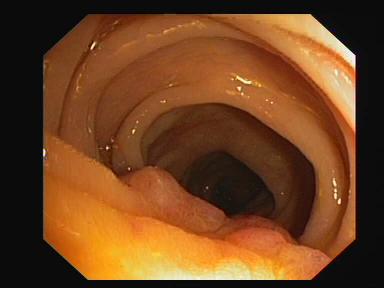polyp: (121, 152, 227, 229), (236, 192, 332, 267)
